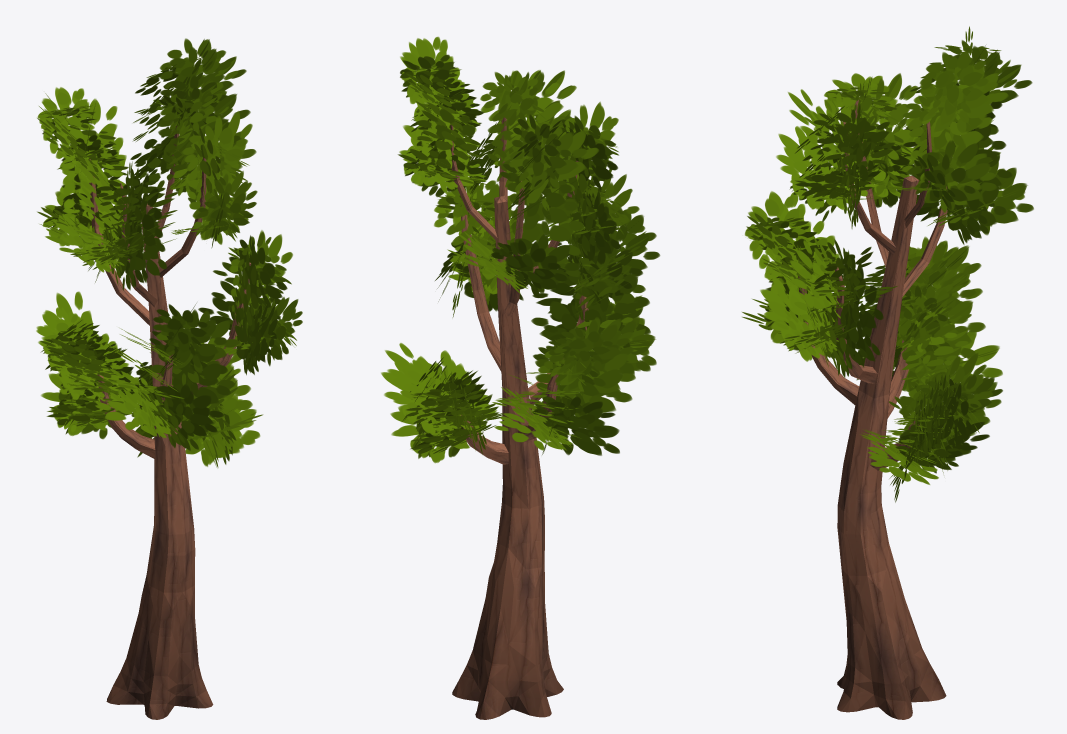
The model's file is tree-a.glb.
The picture shows the model from 3 angles, left to right: view 1: azimuth 30°, elevation 25°; view 2: azimuth 150°, elevation 25°; view 3: azimuth 270°, elevation 25°; orthographic projection. The views are drawn at different scales.
Parts seen in each view (by area): view 1: CommonTree_3; view 2: CommonTree_3; view 3: CommonTree_3.
Part boxes in pixels (bbox=[...]): CommonTree_3: bbox=[36, 38, 302, 719]; CommonTree_3: bbox=[381, 36, 660, 719]; CommonTree_3: bbox=[742, 26, 1033, 719].
Bounding box in the file's own units: 4.06 × 9.43 × 4.24.
2 materials, 2 textured.
